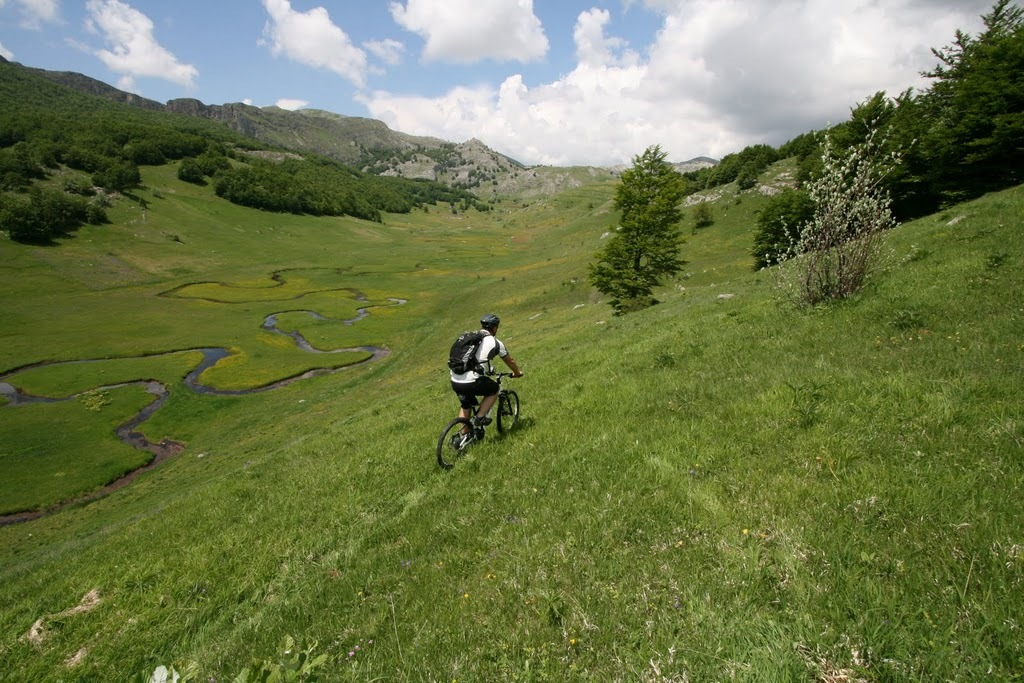bicycle: (442, 367, 529, 466)
